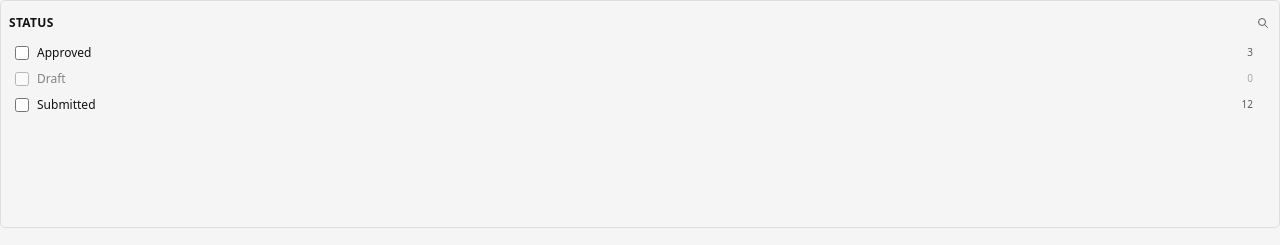
FacetCard — search › filters on the visible LABEL, case-insensitively
Click the button named "Search values": [1263, 23] box [1255,15,1271,31]
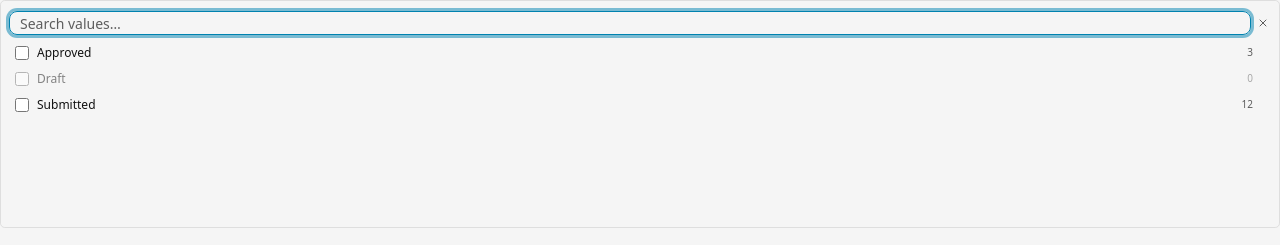
In the field with placeholder "Search values…": [630, 23] box [9,11,1251,35], type "sub"
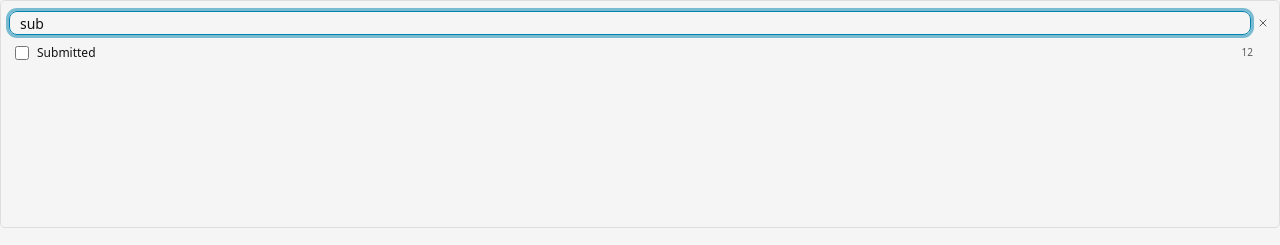
Expected: the text "Submitted" is shown, [37,44,96,61]
Expected: the text "Approved" is gone
